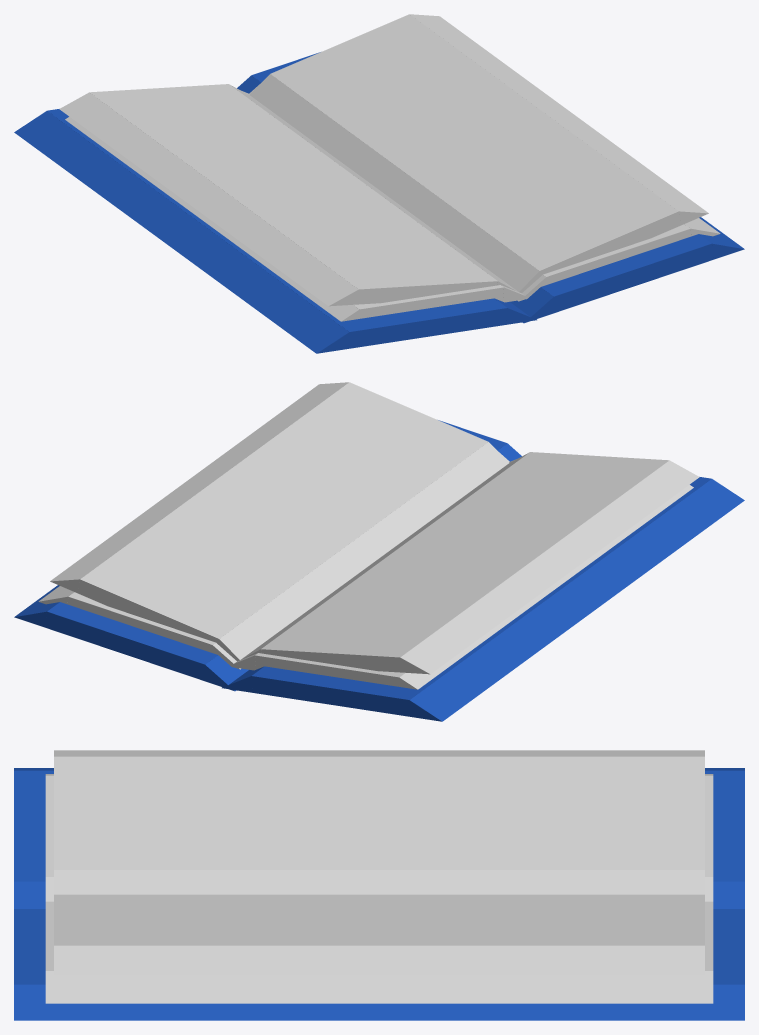
The model's file is libro.gltf.
3 renders of one model, top to bottom at view 1: azimuth 30°, elevation 25°; view 2: azimuth 150°, elevation 25°; view 3: azimuth 270°, elevation 25°, orthographic. The views are drawn at different scales.
Visible parts, largest first — view 1: Part (×14); view 2: Part (×14); view 3: Part (×12).
Part boxes in pixels (box(x1,y1,x2,y2)): Part (×14): box(14, 14, 744, 353); Part (×14): box(14, 382, 744, 721); Part (×12): box(14, 750, 744, 1020).
Bounding box in the file's own units: 2.47 × 0.3202 × 3.02.
